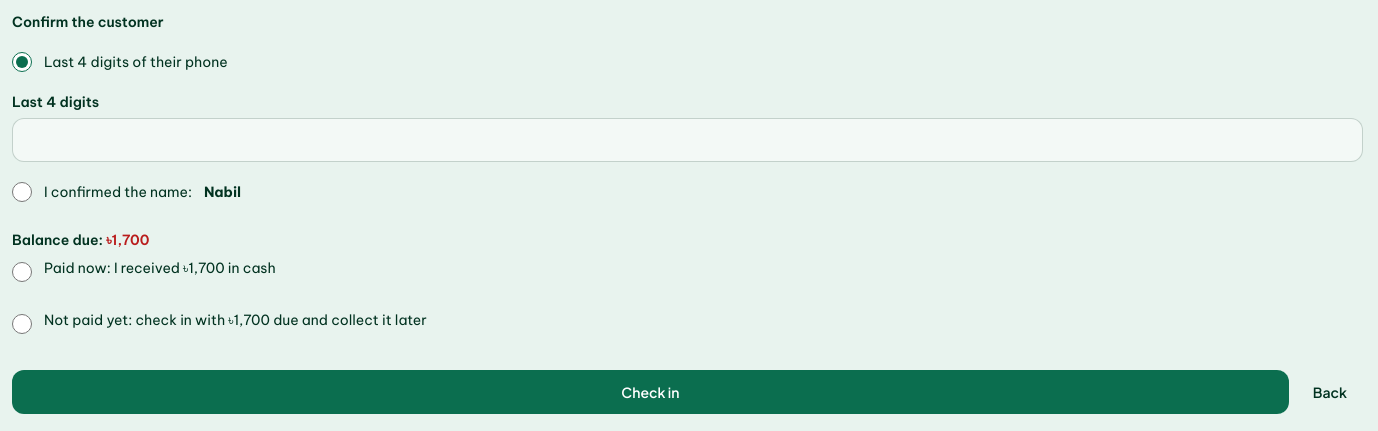
check-in balance choice › neither option is selected at first, and submitting without choosing is refused
Click the radio button labelled "I confirmed the name: Nabil" at (22, 192), box [12,182,32,202]
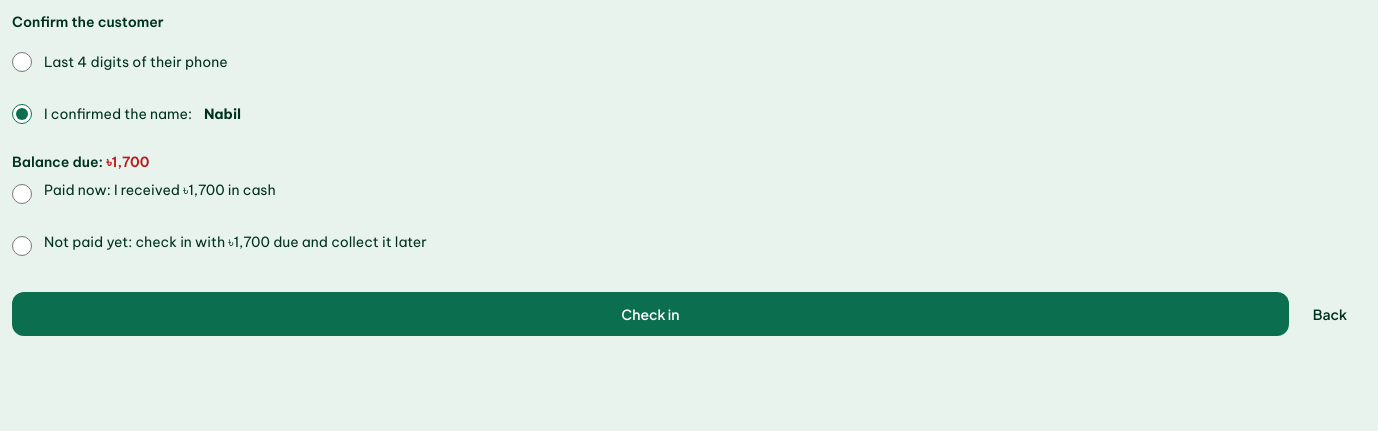
Expected: the radio button labelled "Not paid yet: check in with ৳1,700 due and collect it later" is not checked, [12,236,32,256]
Click the button "Check in" at (650, 314), box [12,292,1289,336]
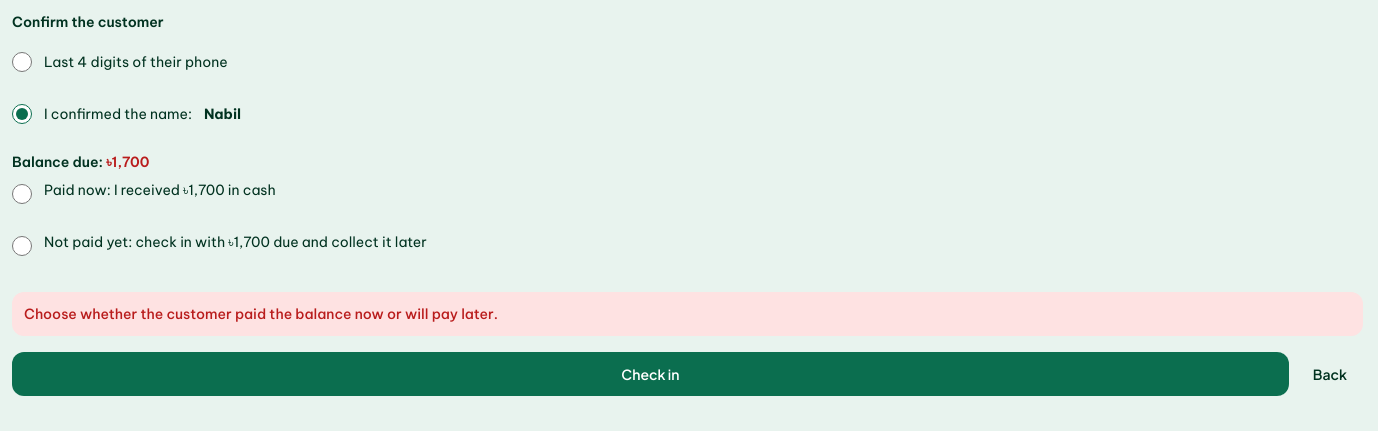
Result: the message reads "Choose whether the customer paid the balance now or will pay later." at [24,305,498,323]
